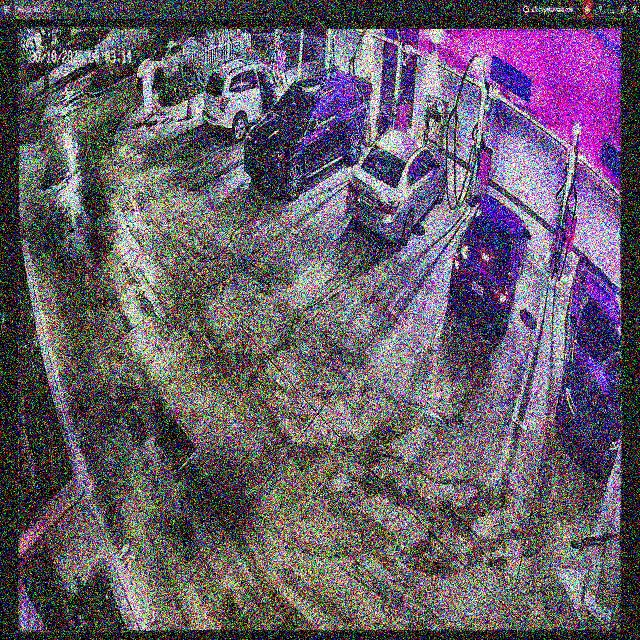Car: (242, 68, 366, 195), (448, 193, 532, 337), (346, 129, 448, 240)
